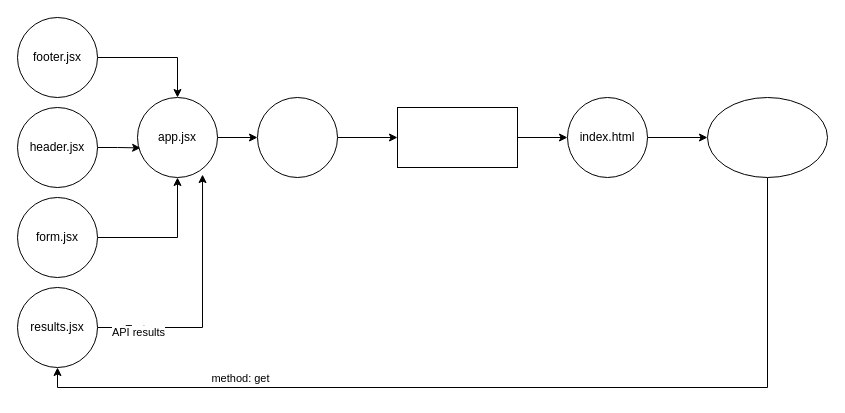
This 845x413 diagram has some shape labels left out. The centre of each missing label's shape, as x and y in pixels:
"index.js" belongs at point (297, 137).
"react" belongs at point (457, 137).
"UI" belongs at point (767, 137).
